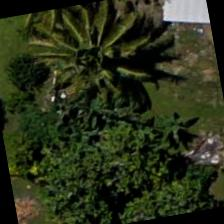Kelapa_Sawit: (36, 7, 140, 110)
